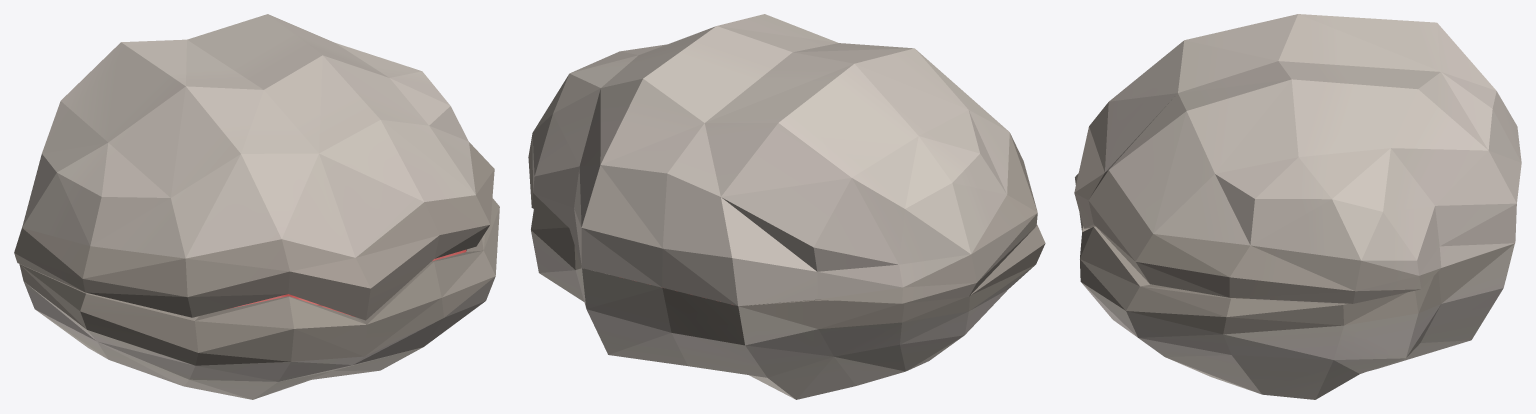
File: treasureChestClam_overworld.fbx
3 views of the same model, side by side, from view 1: azimuth 30°, elevation 25°; view 2: azimuth 150°, elevation 25°; view 3: azimuth 270°, elevation 25° (orthographic). The views are drawn at different scales.
Visible parts, largest first — view 1: treasureChest_clamLid, treasureChestClam_overworld; view 2: treasureChest_clamLid, treasureChestClam_overworld; view 3: treasureChest_clamLid, treasureChestClam_overworld.
Boxes of the visible parts, left/top/right/bottom form: treasureChest_clamLid: left=14, top=14, right=494, bottom=320; treasureChestClam_overworld: left=19, top=198, right=499, bottom=399; treasureChest_clamLid: left=528, top=14, right=1037, bottom=306; treasureChestClam_overworld: left=531, top=209, right=1045, bottom=399; treasureChest_clamLid: left=1074, top=14, right=1521, bottom=303; treasureChestClam_overworld: left=1075, top=173, right=1514, bottom=399.
Bounding box in the file's own units: 2.06 × 1.36 × 1.85.
Materials: 2 (2 with a texture image).
